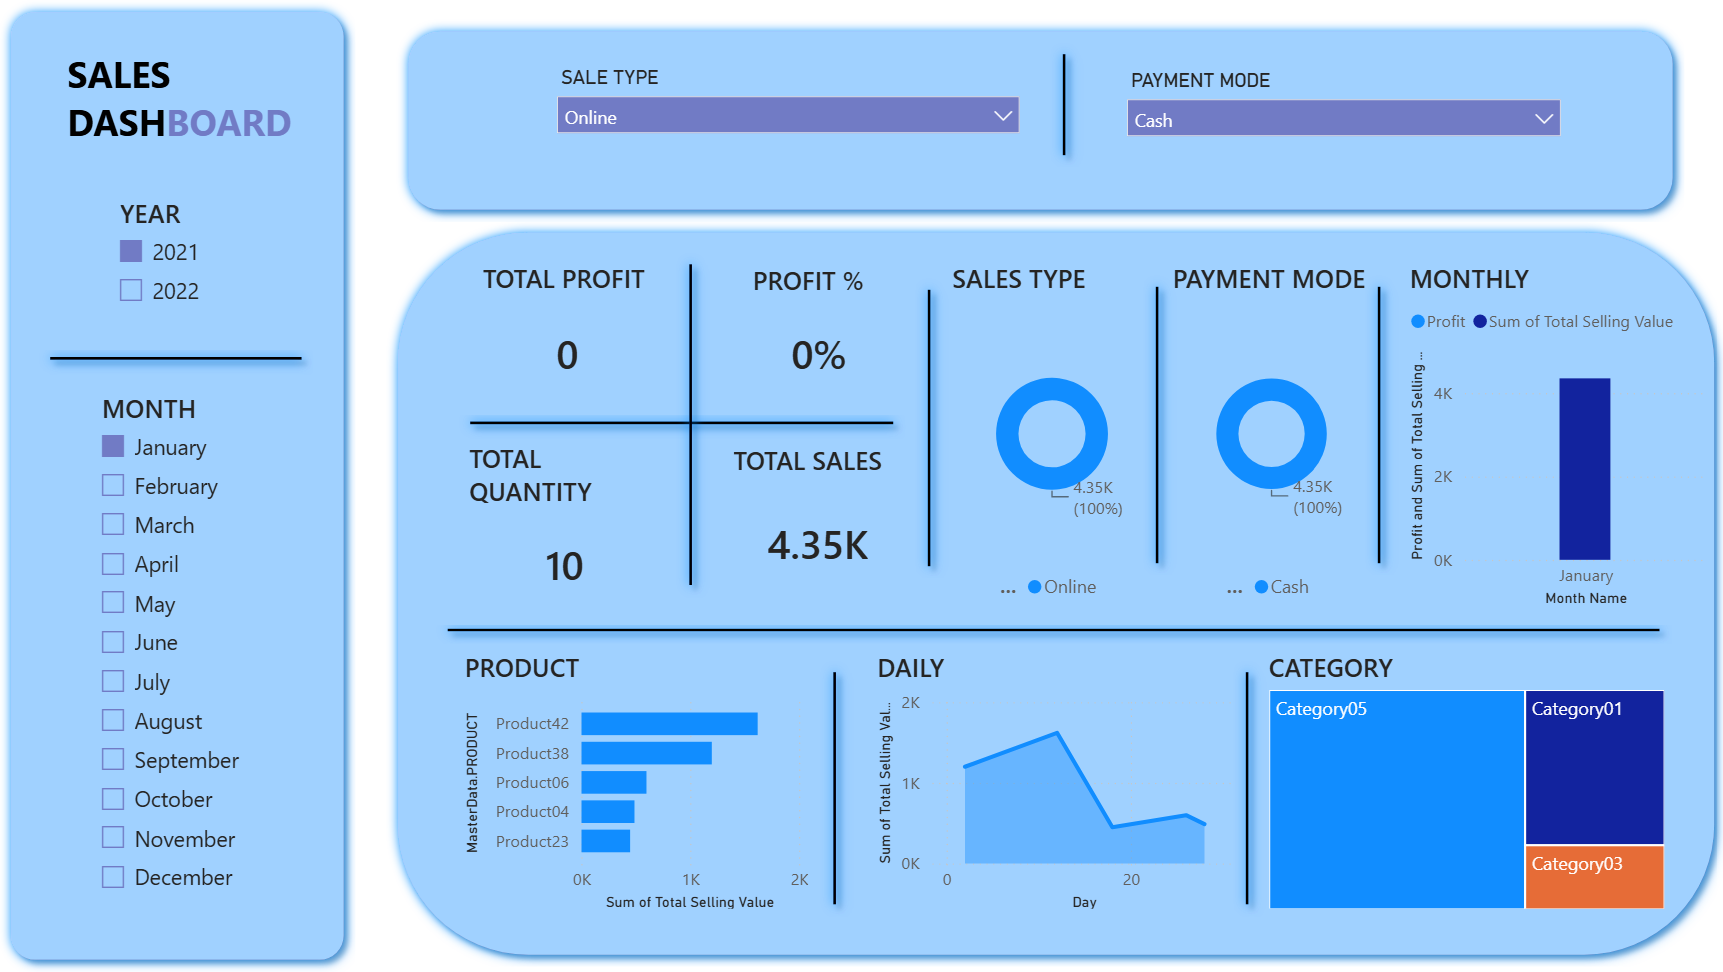

The dashboard page shown, as its layout file describes it:
{"tool":"powerbi","page":{"name":"Page 1","canvas":[1280,720],"ordinal":0},"visuals":[{"type":"shape","box":[287.1,162.9,992.9,552.9],"z":0},{"type":"shape","box":[294.3,14.3,954.3,150],"z":1000},{"type":"shape","box":[0,0,264.3,720],"z":2000},{"type":"slicer","fields":{"Values":["InputData.Year"]},"box":[77.1,140,107.1,100],"z":3000},{"type":"slicer","fields":{"Values":["InputData.PAYMENT MODE"]},"box":[825.7,45.7,341.4,88.6],"z":4000},{"type":"slicer","fields":{"Values":["InputData.Month Name"]},"box":[62.9,284.3,135.7,390],"z":5000},{"type":"slicer","fields":{"Values":["InputData.SALE TYPE"]},"box":[402.9,42.9,362.9,92.9],"z":6000},{"type":"cardVisual","title":"TOTAL PROFIT ","fields":{"Data":["InputData.Profit"]},"box":[352.9,192.9,135.7,110],"z":7000},{"type":"cardVisual","title":"PROFIT %","fields":{"Data":["InputData.Profit %"]},"box":[552.9,194.3,108.6,107.1],"z":8000},{"type":"cardVisual","title":"TOTAL SALES","fields":{"Data":["Sum(InputData.Total Selling Value)"]},"box":[538.9,327.5,135.3,120.8],"z":9000},{"type":"cardVisual","title":"TOTAL QUANTITY","fields":{"Data":["Sum(InputData.QUANTITY)"]},"box":[342.9,327.1,151.4,130],"z":10000},{"type":"columnChart","title":"MONTHLY","fields":{"Category":["InputData.Month Name"],"Y":["InputData.Profit","Sum(InputData.Total Selling Value)"]},"box":[1040,192.9,230,260],"z":11000},{"type":"clusteredBarChart","title":"PRODUCT","fields":{"Y":["Sum(InputData.Total Selling Value)"],"Category":["InputData.MasterData.PRODUCT"]},"box":[340,481.4,264.3,197.1],"z":12000},{"type":"areaChart","title":"DAILY","fields":{"Y":["Sum(InputData.Total Selling Value)"],"Category":["InputData.Day"]},"box":[645.7,481.4,275.7,197.1],"z":13000},{"type":"donutChart","title":"SALES TYPE","fields":{"Y":["Sum(InputData.Total Selling Value)"],"Category":["InputData.SALE TYPE"]},"box":[701.4,192.9,157.1,260],"z":14000},{"type":"donutChart","title":"PAYMENT MODE","fields":{"Y":["Sum(InputData.Total Selling Value)"],"Category":["InputData.PAYMENT MODE"]},"box":[864.3,192.9,155.7,260],"z":15000},{"type":"treemap","title":"CATEGORY","fields":{"Group":["InputData.MasterData.CATEGORY"],"Values":["Sum(InputData.Total Selling Value)"]},"box":[935.7,481.4,302.9,197.1],"z":16000},{"type":"shape","box":[28.6,252.9,204.3,24.3],"z":17000},{"type":"shape","box":[340,301.4,331.4,24.3],"z":18000},{"type":"shape","box":[494.3,187.1,35.7,255.7],"z":19000},{"type":"shape","box":[771.4,31.4,35.7,92.9],"z":20000},{"type":"shape","box":[322.9,457.1,915.7,20],"z":21000},{"type":"shape","box":[601.4,488.6,35.7,190],"z":22000},{"type":"shape","box":[907.1,488.6,35.7,190],"z":23000},{"type":"shape","box":[1004.3,202.9,35.7,222.9],"z":24000},{"type":"shape","box":[840,202.9,35.7,222.9],"z":25000},{"type":"shape","box":[671.4,205.7,35.7,222.9],"z":26000},{"type":"textbox","box":[45.7,31.4,187.1,87.1],"z":27000}]}

Visuals, with their boxes in screenshot pixels (x1, y1, x2, y2), scaled from the page's 1280x720 canvas onto the 1723x972 screenshot:
shape: [x1=386, y1=220, x2=1722, y2=966]
shape: [x1=396, y1=19, x2=1681, y2=222]
shape: [x1=0, y1=0, x2=356, y2=971]
slicer - InputData.Year: [x1=104, y1=189, x2=248, y2=324]
slicer - InputData.PAYMENT MODE: [x1=1111, y1=62, x2=1571, y2=181]
slicer - InputData.Month Name: [x1=85, y1=384, x2=267, y2=910]
slicer - InputData.SALE TYPE: [x1=542, y1=58, x2=1031, y2=183]
"TOTAL PROFIT " cardVisual: [x1=475, y1=260, x2=658, y2=409]
"PROFIT %" cardVisual: [x1=744, y1=262, x2=890, y2=407]
"TOTAL SALES" cardVisual: [x1=725, y1=442, x2=908, y2=605]
"TOTAL QUANTITY" cardVisual: [x1=462, y1=442, x2=665, y2=617]
"MONTHLY" columnChart: [x1=1400, y1=260, x2=1710, y2=611]
"PRODUCT" clusteredBarChart: [x1=458, y1=650, x2=813, y2=916]
"DAILY" areaChart: [x1=869, y1=650, x2=1240, y2=916]
"SALES TYPE" donutChart: [x1=944, y1=260, x2=1156, y2=611]
"PAYMENT MODE" donutChart: [x1=1163, y1=260, x2=1373, y2=611]
"CATEGORY" treemap: [x1=1260, y1=650, x2=1667, y2=916]
shape: [x1=38, y1=341, x2=314, y2=374]
shape: [x1=458, y1=407, x2=904, y2=440]
shape: [x1=665, y1=253, x2=713, y2=598]
shape: [x1=1038, y1=42, x2=1086, y2=168]
shape: [x1=435, y1=617, x2=1667, y2=644]
shape: [x1=810, y1=660, x2=858, y2=916]
shape: [x1=1221, y1=660, x2=1269, y2=916]
shape: [x1=1352, y1=274, x2=1400, y2=575]
shape: [x1=1131, y1=274, x2=1179, y2=575]
shape: [x1=904, y1=278, x2=952, y2=579]
textbox: [x1=62, y1=42, x2=313, y2=160]
